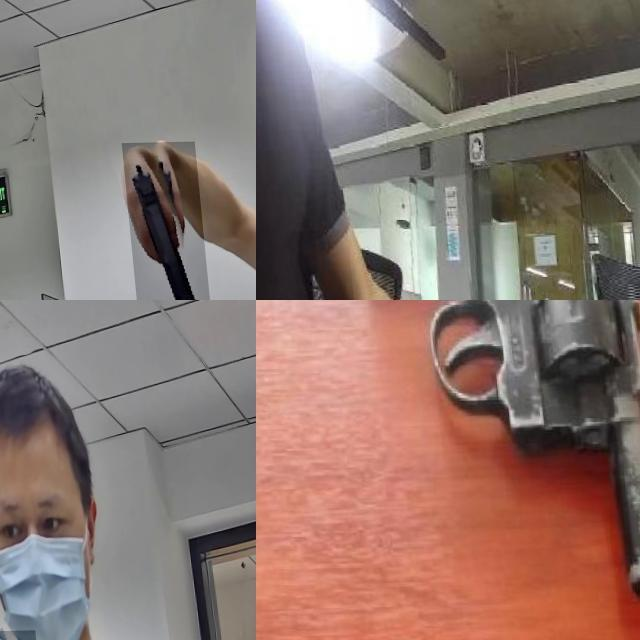-: (256, 300, 340, 640)
gun-knife-thesis - v11 Yolov5 augmented: (114, 143, 206, 300)
